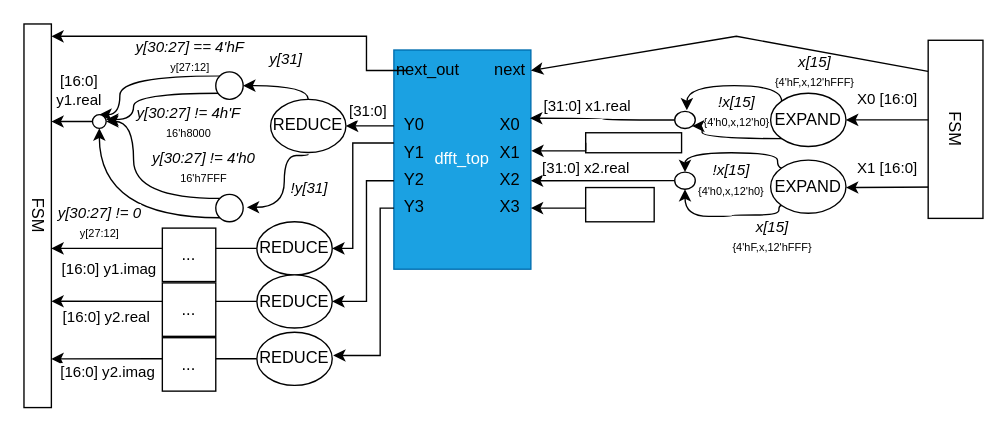
Some shapes in this 1007 by 432 pixel diagram are drawn without their labels. The centre of each missing label's shape, as x and y in pixels:
x1.imag = 0: point 633,142
x2.imag = 0: point 619,204
